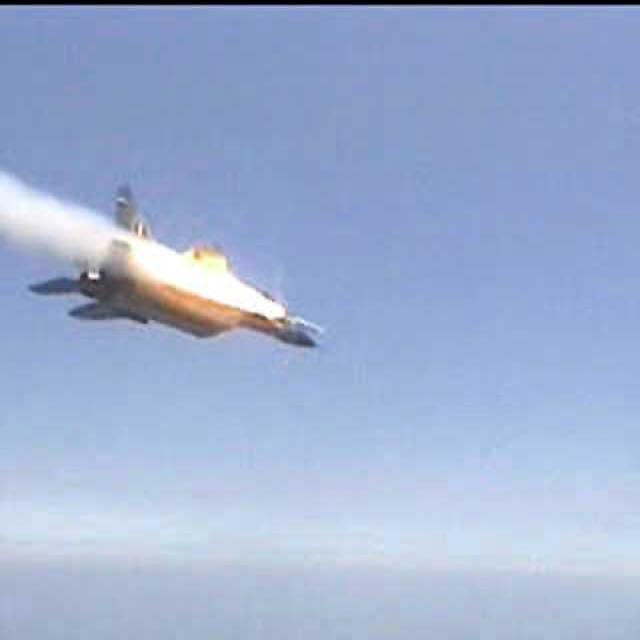missile: (270, 298, 328, 361)
